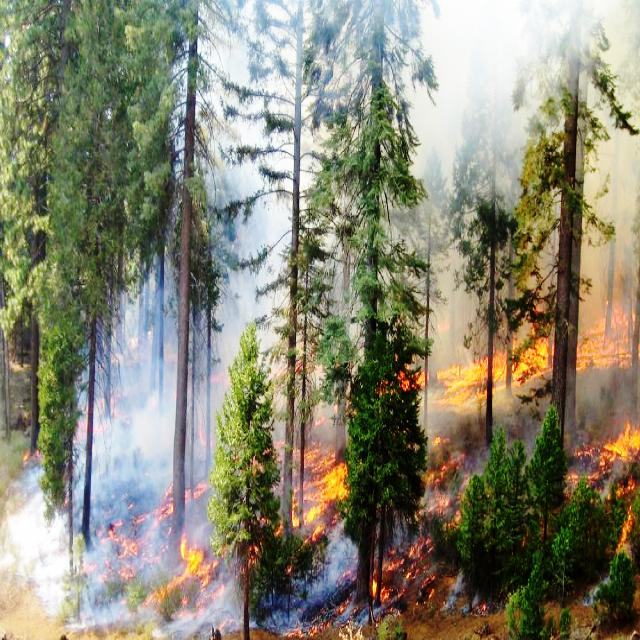api: (577, 307, 627, 382), (492, 348, 556, 392), (436, 352, 488, 405), (305, 463, 347, 523), (176, 542, 215, 590), (602, 427, 638, 469), (150, 501, 172, 534), (185, 483, 206, 506), (120, 540, 134, 573)
asap: (281, 540, 362, 621), (89, 400, 160, 481), (169, 596, 234, 635), (81, 592, 135, 630)
